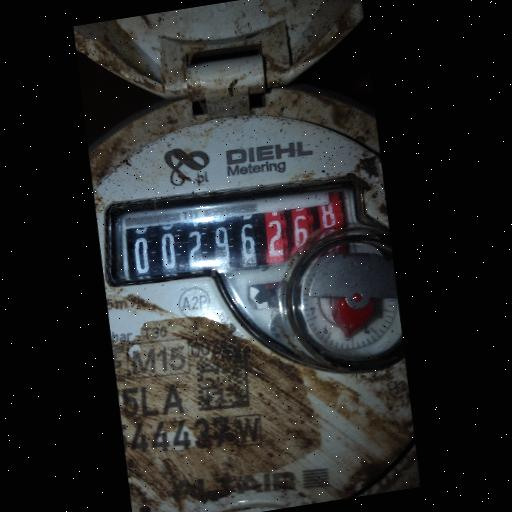0: (145, 222, 184, 276), (121, 225, 157, 279)
2: (251, 208, 294, 266), (171, 218, 211, 273)
6: (226, 212, 264, 270), (281, 205, 319, 258)
8: (308, 190, 347, 242)
9: (199, 215, 238, 272)
border_water_meter_number: (107, 175, 367, 294)
